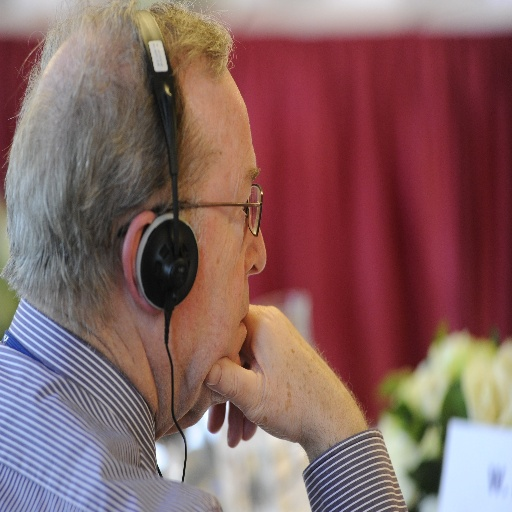hand: (206, 302, 310, 450)
